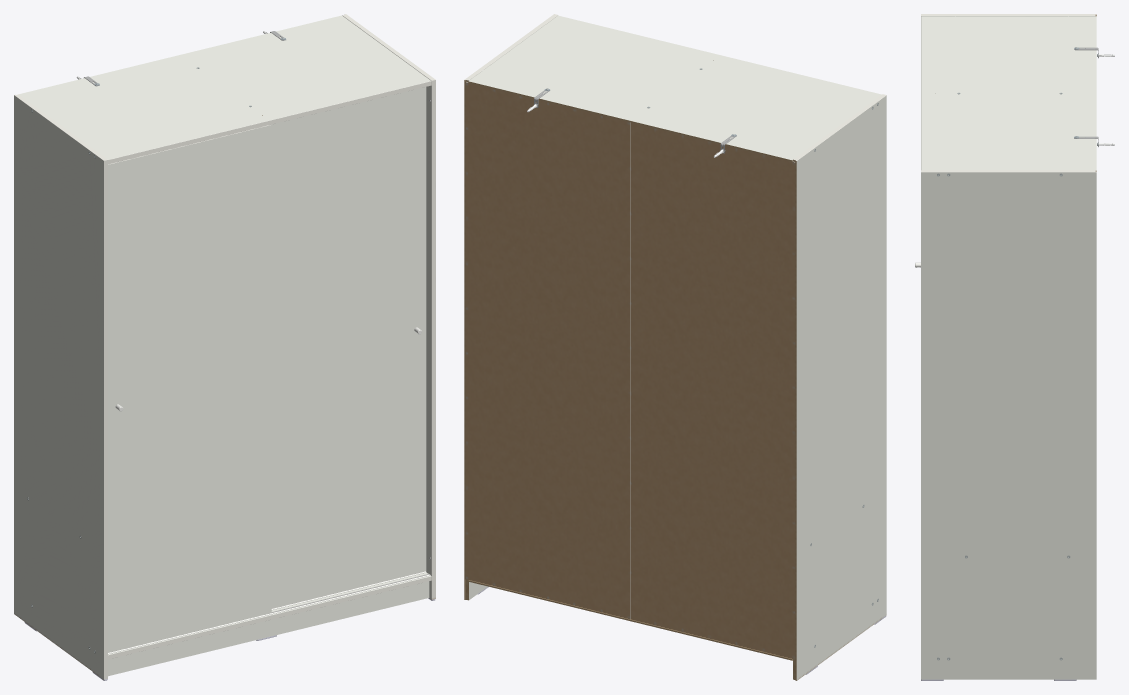
File: 07 - KLEPPSTAD Wardrobe with sliding doors - white 117x55x176 cm.glb
The picture shows the model from 3 angles, left to right: view 1: azimuth 30°, elevation 25°; view 2: azimuth 150°, elevation 25°; view 3: azimuth 270°, elevation 25°; orthographic projection. The views are drawn at different scales.
Parts seen in each view (by area): view 1: Mesh_0; view 2: Mesh_0; view 3: Mesh_0.
Boxes of the visible parts, bbox=[...] form: Mesh_0: bbox=[14, 14, 435, 680]; Mesh_0: bbox=[464, 14, 886, 680]; Mesh_0: bbox=[915, 14, 1114, 680].
Size of the model in its own units: 1.17 by 1.76 by 0.6248.
1 material, 1 textured.
